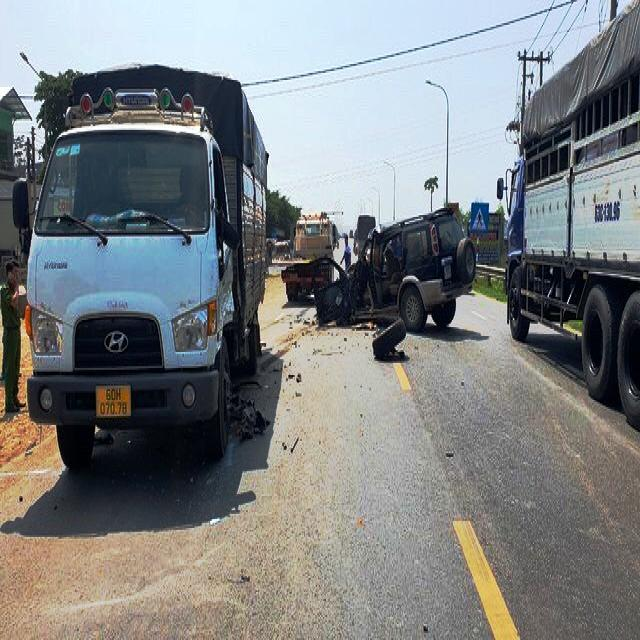license_plate: (96, 387, 132, 418)
